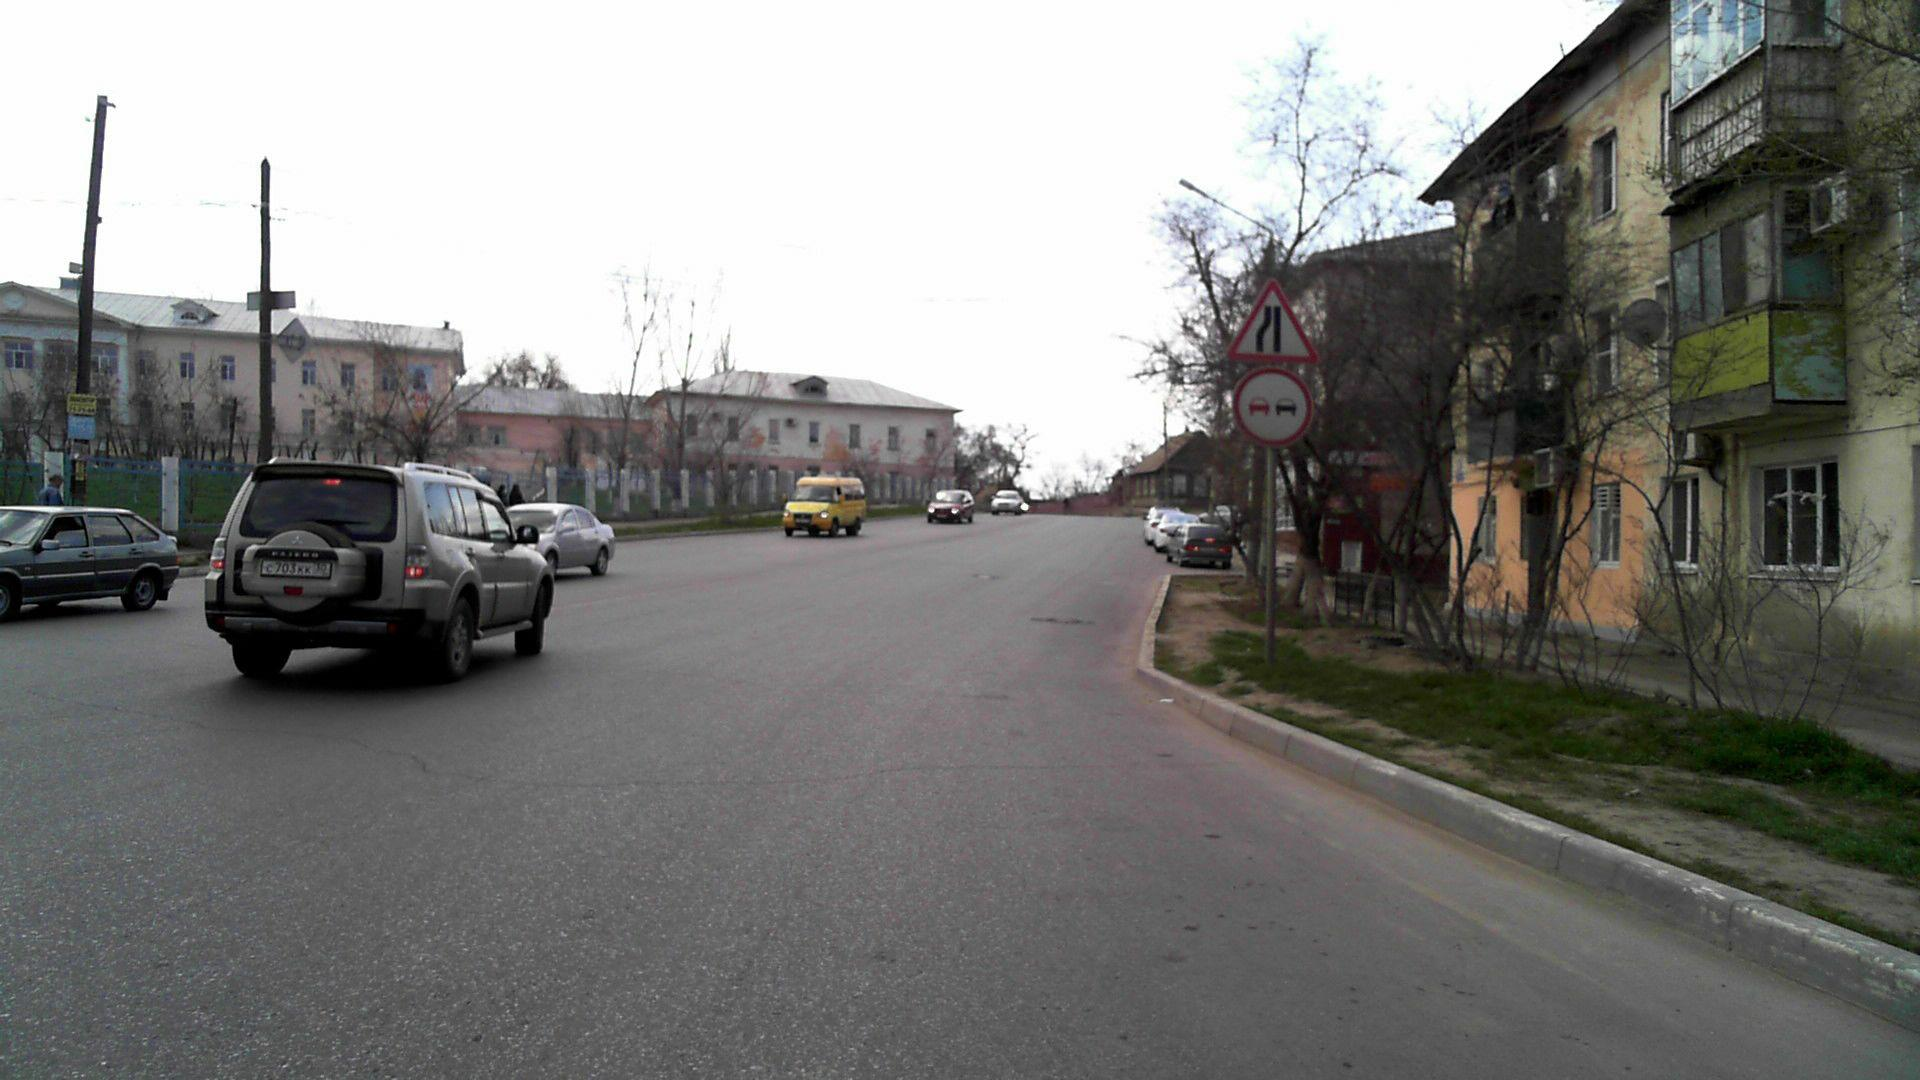1_20_3: (1224, 277, 1313, 363)
3_20: (1230, 372, 1313, 448)
